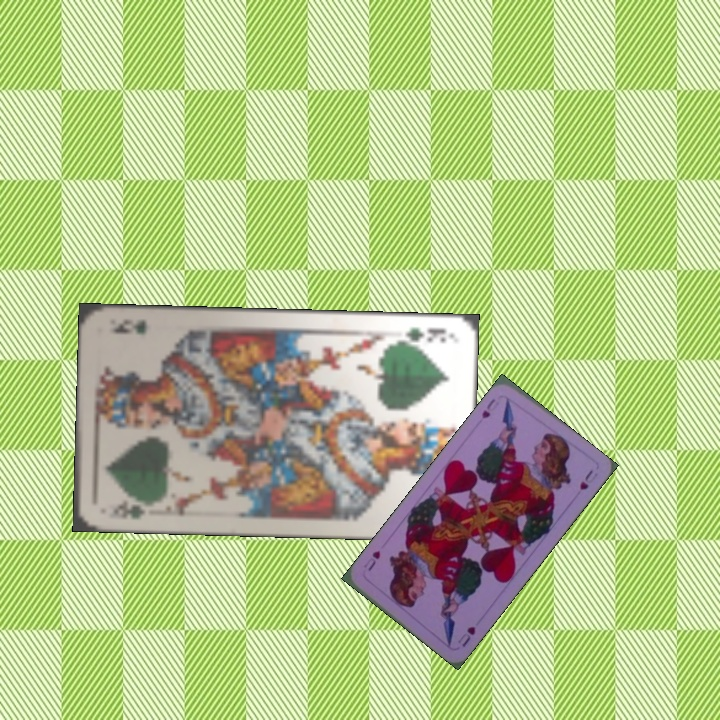GK: (393, 322, 449, 347), (108, 497, 147, 523)
HU: (454, 622, 478, 650), (477, 395, 498, 421)
